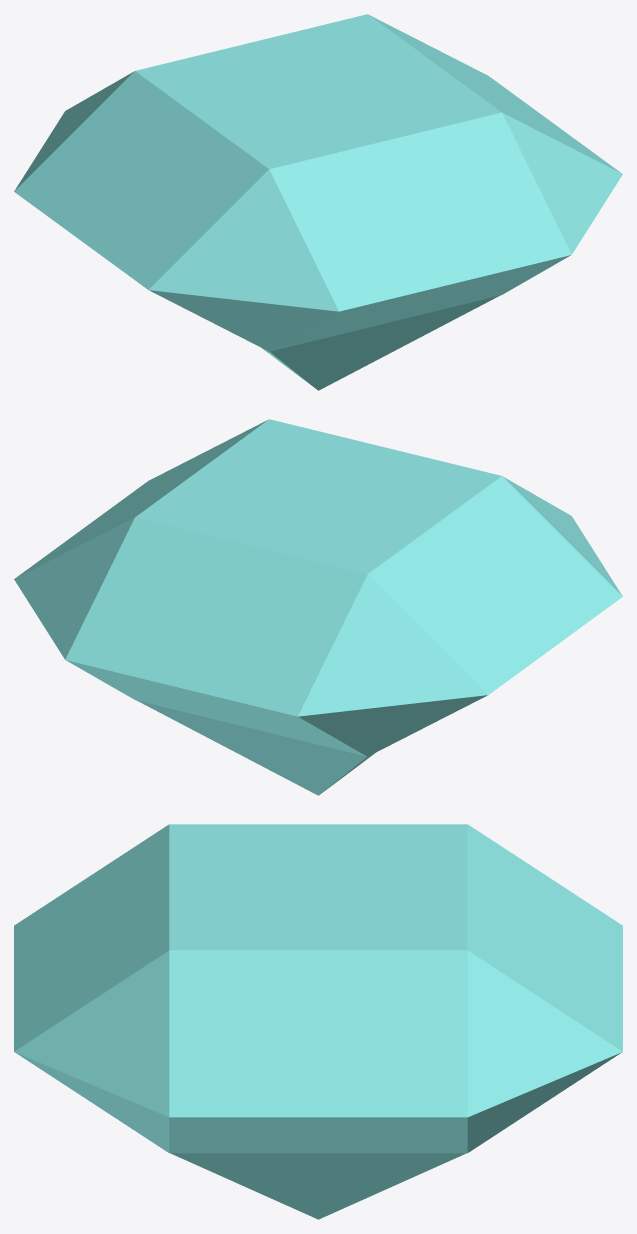
File: Diamond.fbx
3 renders of one model, top to bottom at view 1: azimuth 30°, elevation 25°; view 2: azimuth 150°, elevation 25°; view 3: azimuth 270°, elevation 25°, orthographic. The views are drawn at different scales.
Visible parts, largest first — view 1: 立方体.001; view 2: 立方体.001; view 3: 立方体.001.
Part boxes in pixels (<box>): 立方体.001: <box>14,14,622,390</box>; 立方体.001: <box>14,419,622,795</box>; 立方体.001: <box>14,824,622,1219</box>.
Bounding box in the file's own units: 2 × 1.2 × 2.
